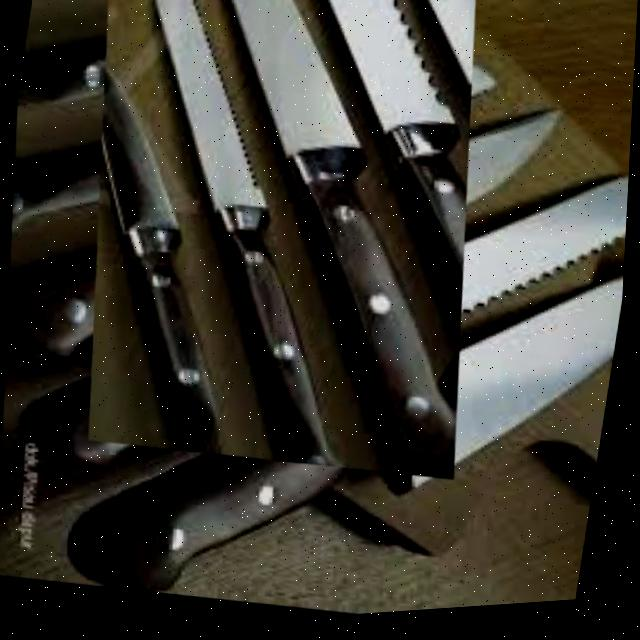knife: (104, 231, 629, 633), (138, 0, 526, 495), (79, 0, 422, 489), (45, 57, 284, 470), (252, 0, 514, 354)
